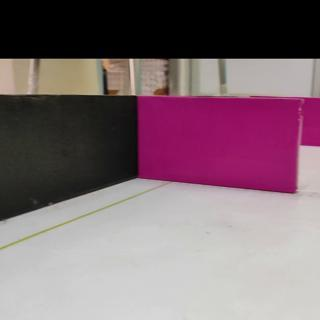xparking: (142, 95, 297, 189), (305, 95, 320, 146)
